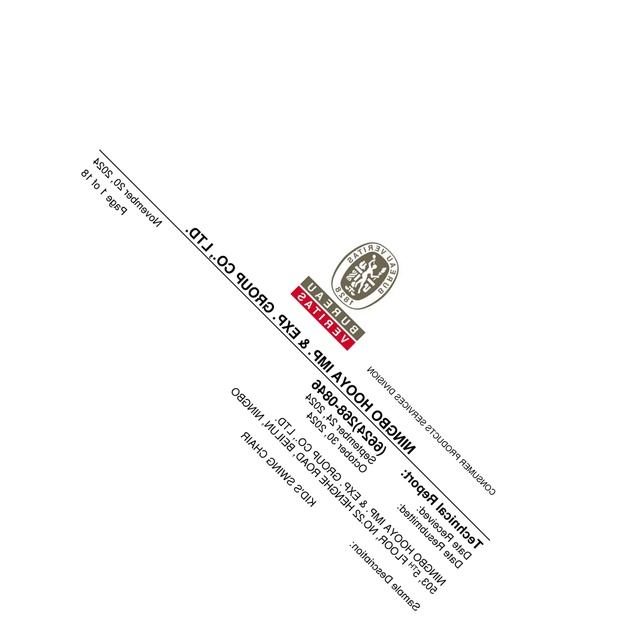bureau_veritas: (288, 237, 400, 354)
